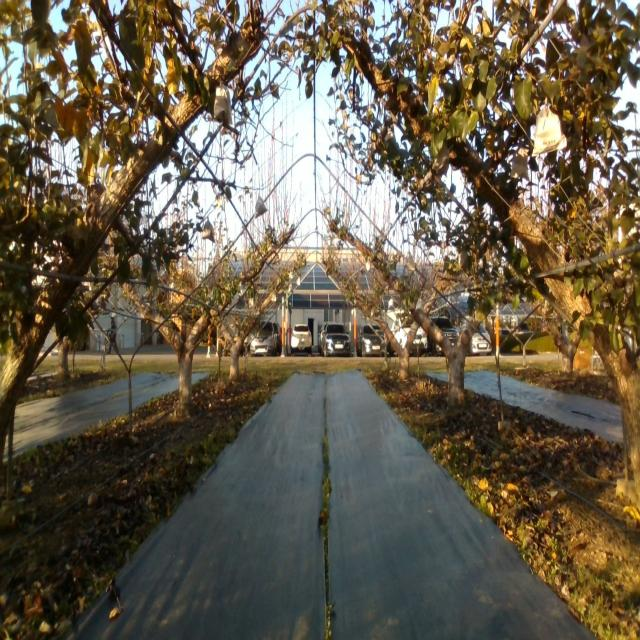pearbags: (532, 102, 568, 157), (213, 82, 232, 124), (510, 146, 529, 182), (254, 195, 267, 218), (202, 217, 214, 241)
